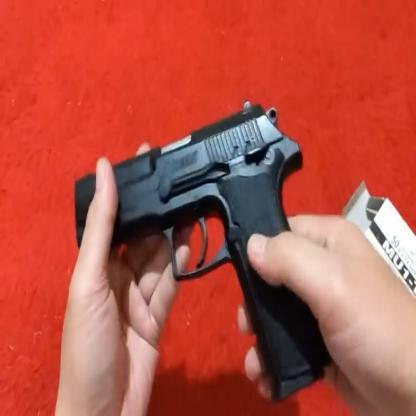handgun: (70, 91, 334, 407)
